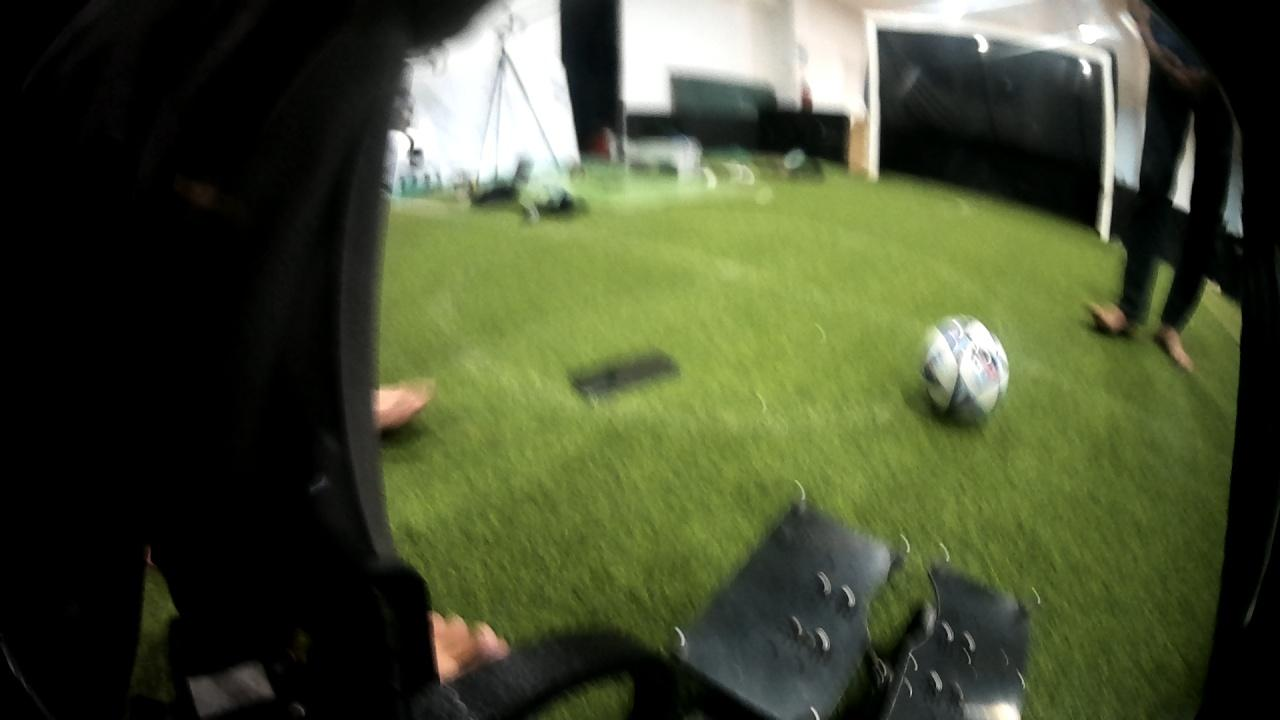ball: (909, 303, 1016, 427)
